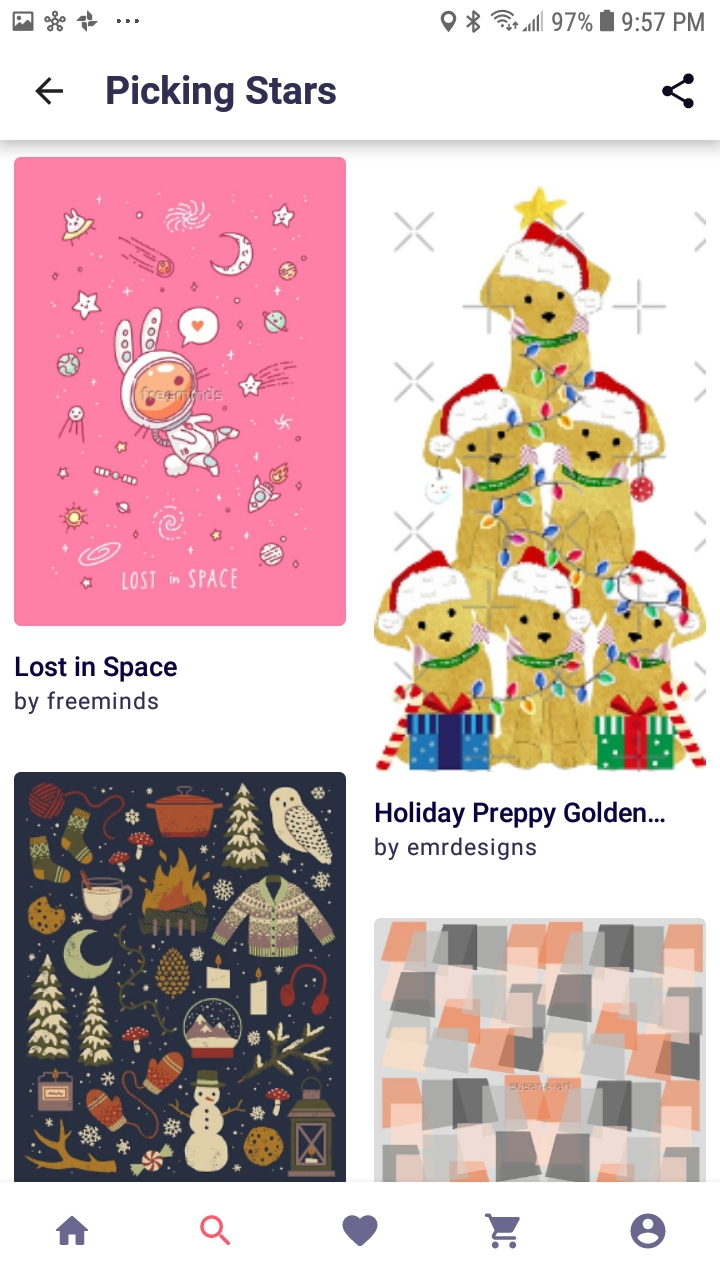Icon: (485, 1212, 521, 1249), (630, 1212, 666, 1249), (662, 73, 695, 110), (342, 1215, 379, 1247), (56, 1215, 89, 1245), (200, 1215, 231, 1246), (36, 77, 65, 106)
Image: (374, 185, 707, 772), (15, 157, 347, 627), (15, 772, 347, 1182), (374, 917, 707, 1182)
Text: (107, 75, 337, 114), (376, 801, 666, 829), (16, 656, 178, 683), (375, 837, 537, 861), (15, 691, 159, 715)
UpperTaskBar: (1, 1, 720, 34)
